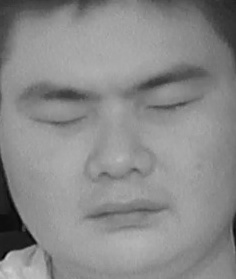blink: (35, 103, 90, 135), (147, 92, 197, 123)
mouth: (75, 191, 164, 239)
